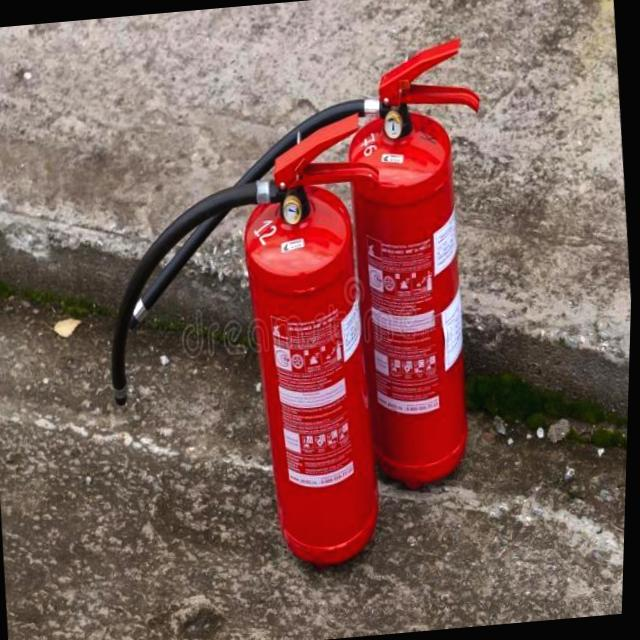FireExtinguisher: (98, 32, 518, 516), (85, 106, 416, 588)
